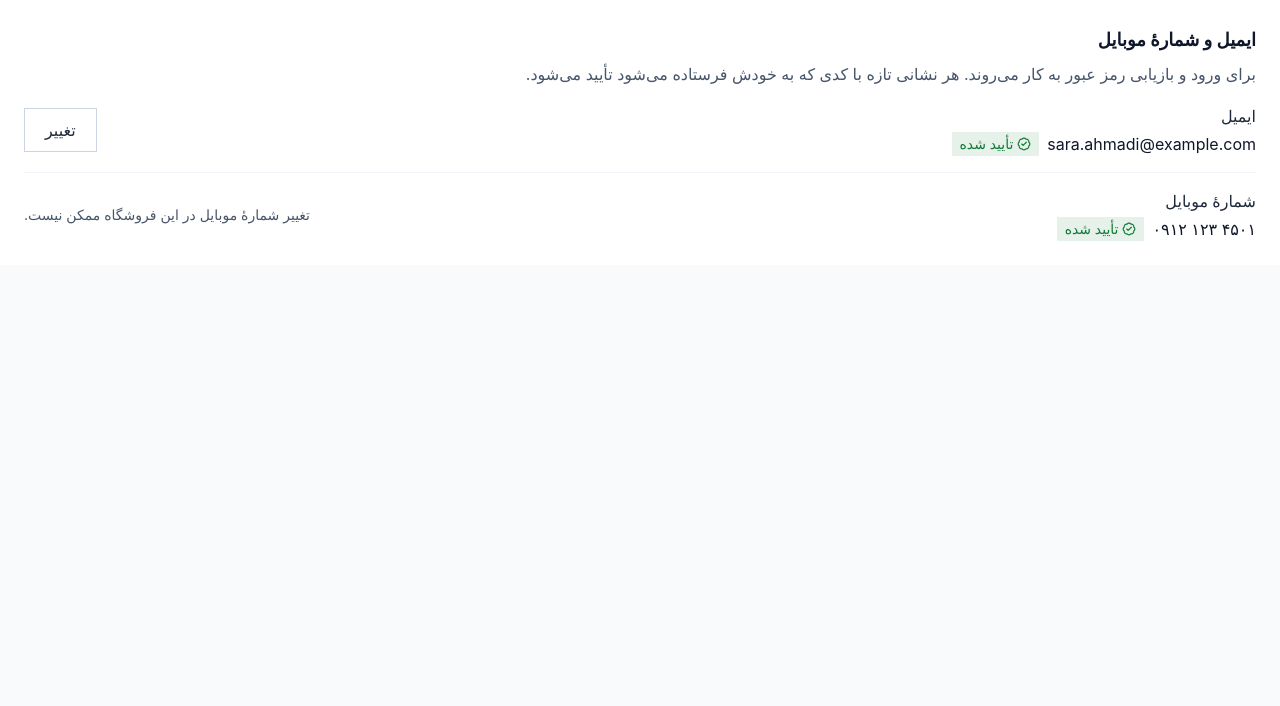
Test case: the authenticator code of a contact change › a send that failed (503) spent it too: the boxes empty, the password stays
Click the button with aria-label "تغییر ایمیل".
click(60, 130)  # box [24, 108, 97, 152]
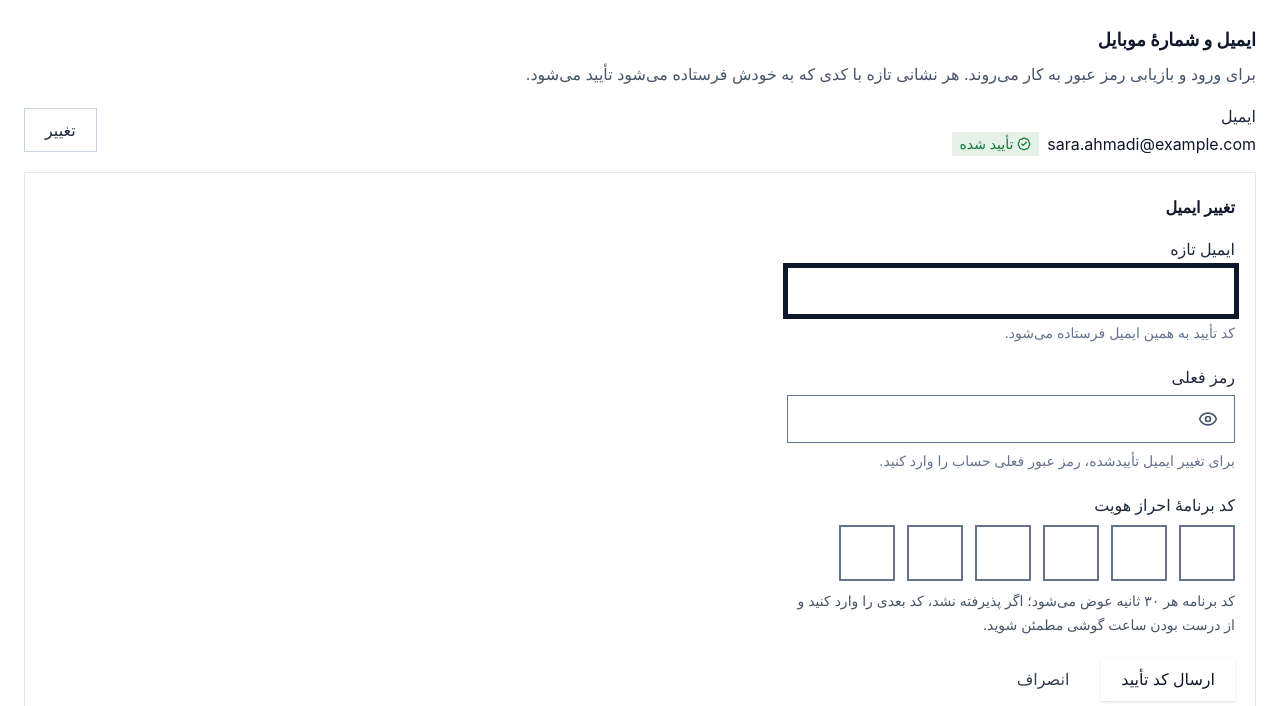
Type "n@example.com" into the field labelled "ایمیل تازه".
click(1011, 291); type("n@example.com")  # box [788, 268, 1234, 314]
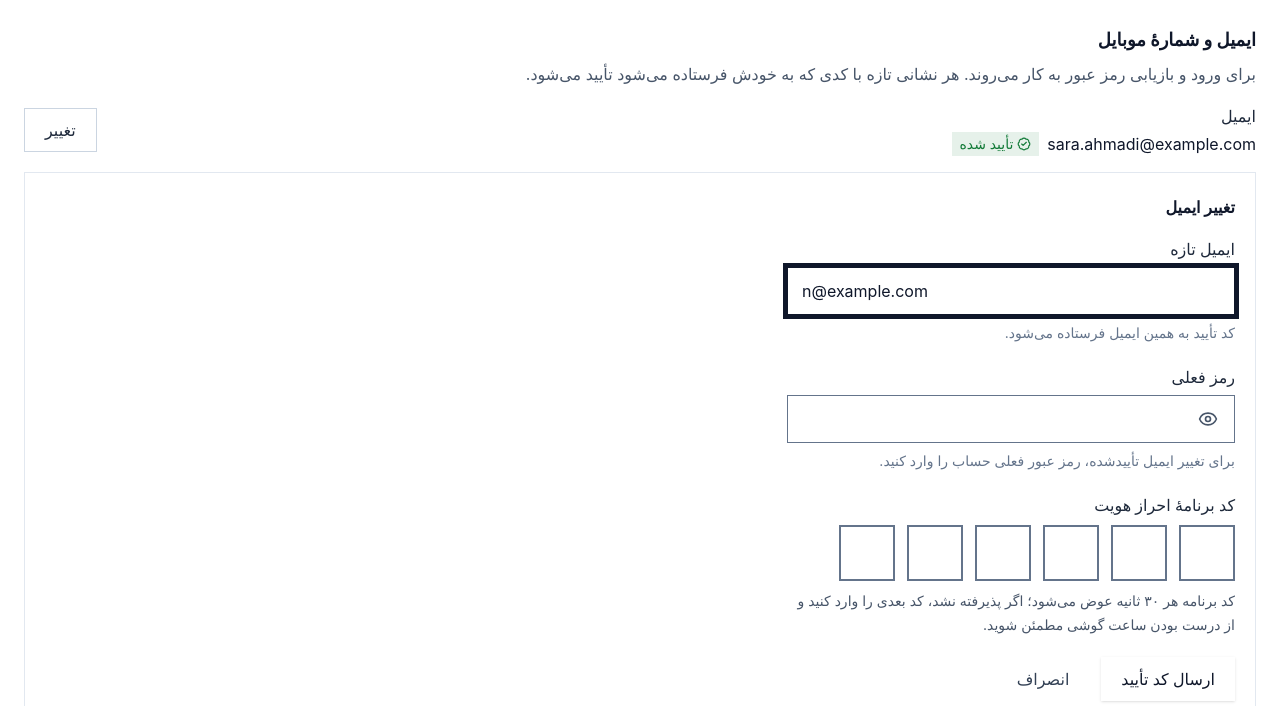
Type "Firefly@1234" into the password field labelled "رمز فعلی".
click(987, 419); type("Firefly@1234")  # box [788, 396, 1186, 442]
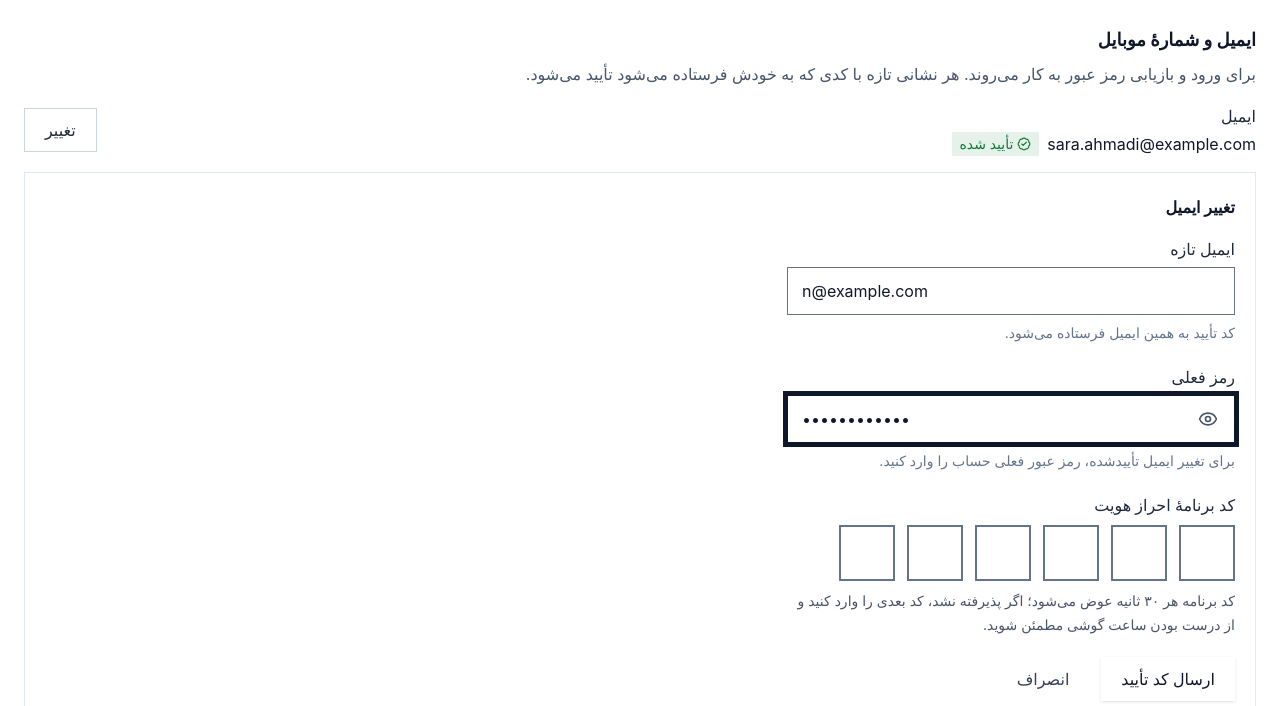
Type "654321" into the field named "رقم ۱".
click(867, 553); type("654321")  # box [839, 525, 895, 581]
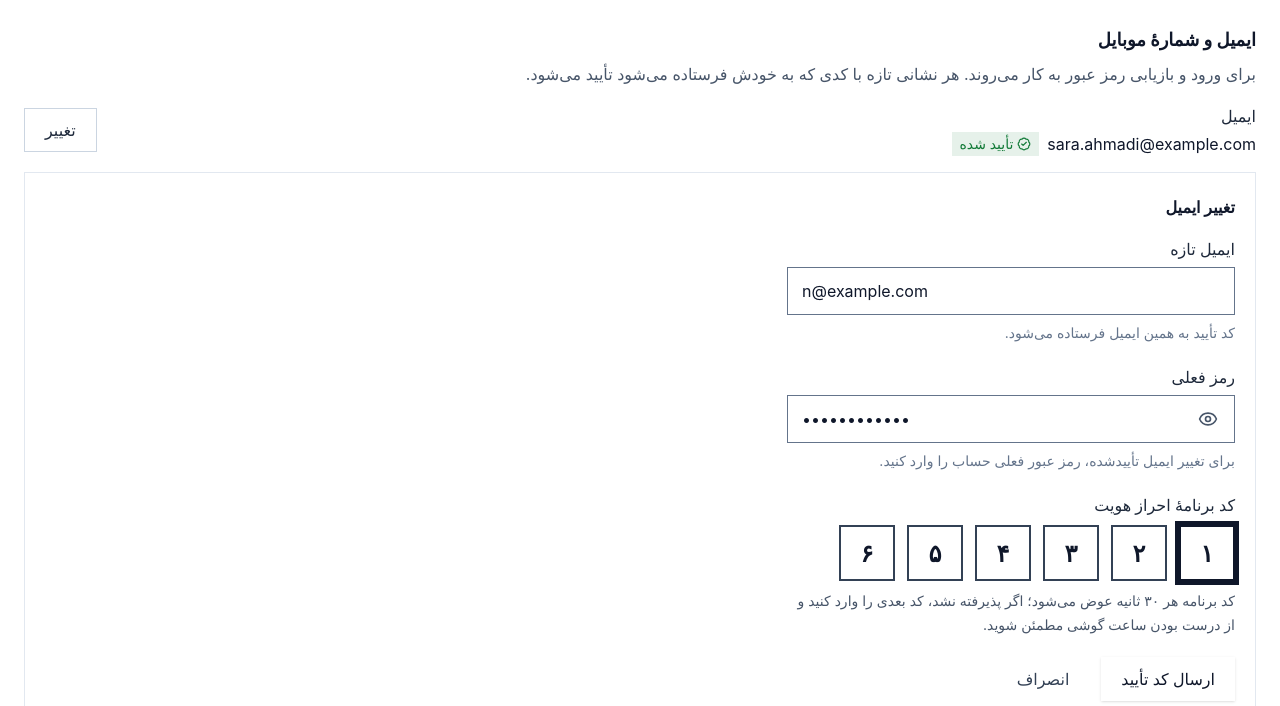
Click the button "ارسال کد تأیید".
click(1168, 679)  # box [1101, 657, 1235, 701]
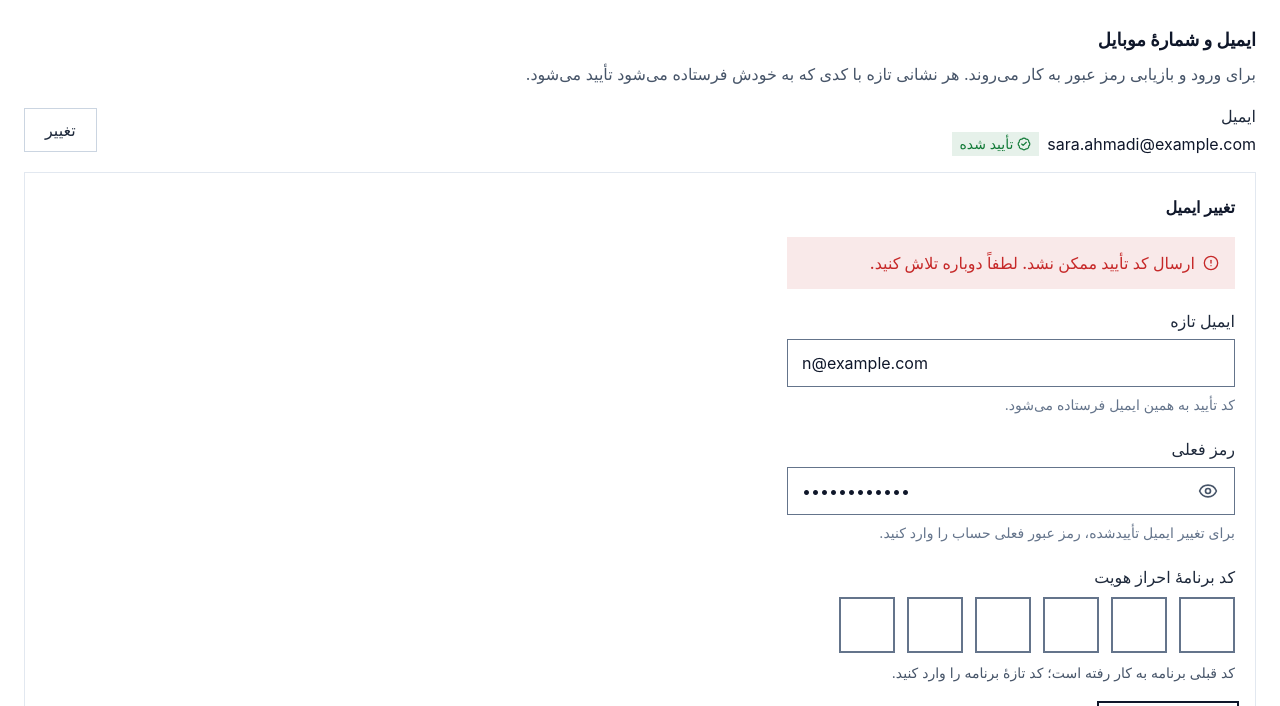
Expected: the message reads "ارسال کد تأیید ممکن نشد. لطفاً دوباره تلاش کنید.", [870, 253, 1195, 273]
Expected: the field named "رقم ۱" is empty, [839, 597, 895, 653]
Expected: the field named "رقم ۲" is empty, [907, 597, 963, 653]
